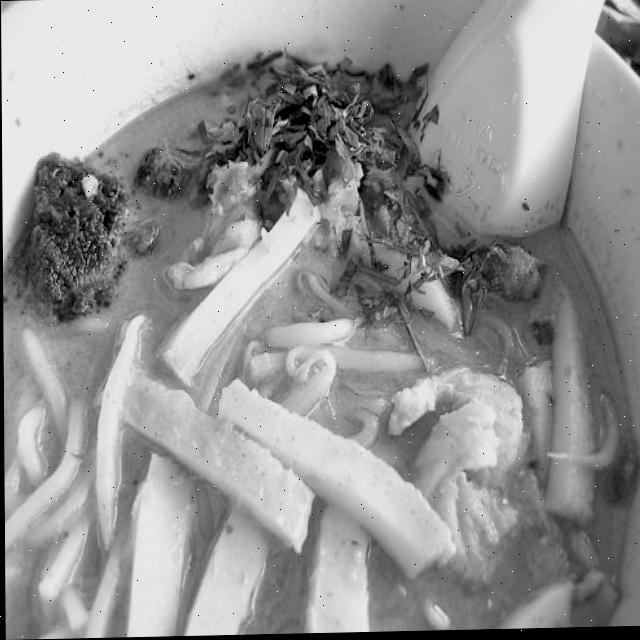面条主食: (8, 24, 633, 634)
